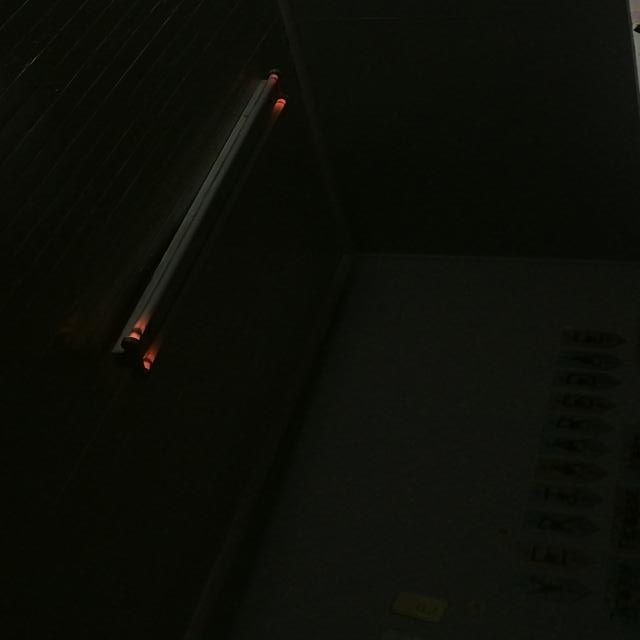fluorescent tube: (87, 45, 330, 372)
